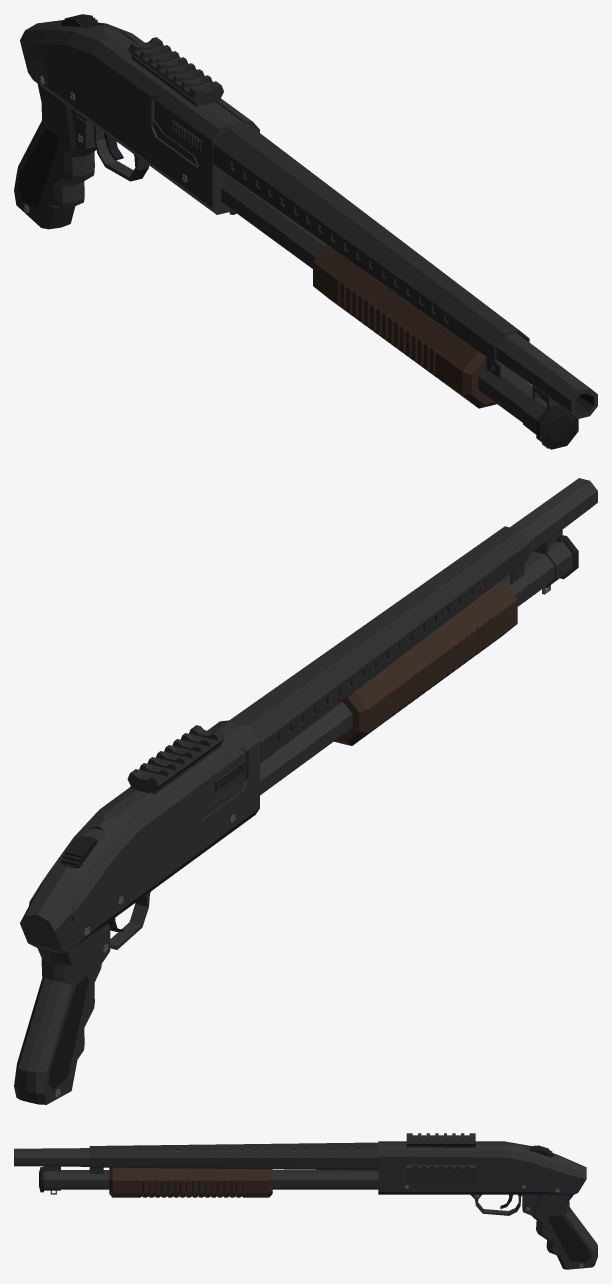
File: pumpgun_a.fbx
The picture shows the model from 3 angles, top to bottom: view 1: azimuth 30°, elevation 25°; view 2: azimuth 150°, elevation 25°; view 3: azimuth 270°, elevation 25°; orthographic projection. The views are drawn at different scales.
Visible parts, largest first — view 1: pumpgun_a; view 2: pumpgun_a; view 3: pumpgun_a.
Part boxes in pixels (x1=…): pumpgun_a: x1=14, y1=14, x2=597, y2=449; pumpgun_a: x1=14, y1=478, x2=597, y2=1104; pumpgun_a: x1=14, y1=1133, x2=597, y2=1269.
Size of the model in its own units: 3.75 by 13.35 by 54.59.
1 material, 1 textured.
